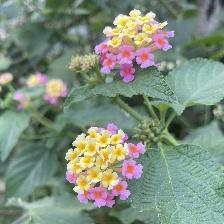common lanthana: (64, 126, 149, 211)
